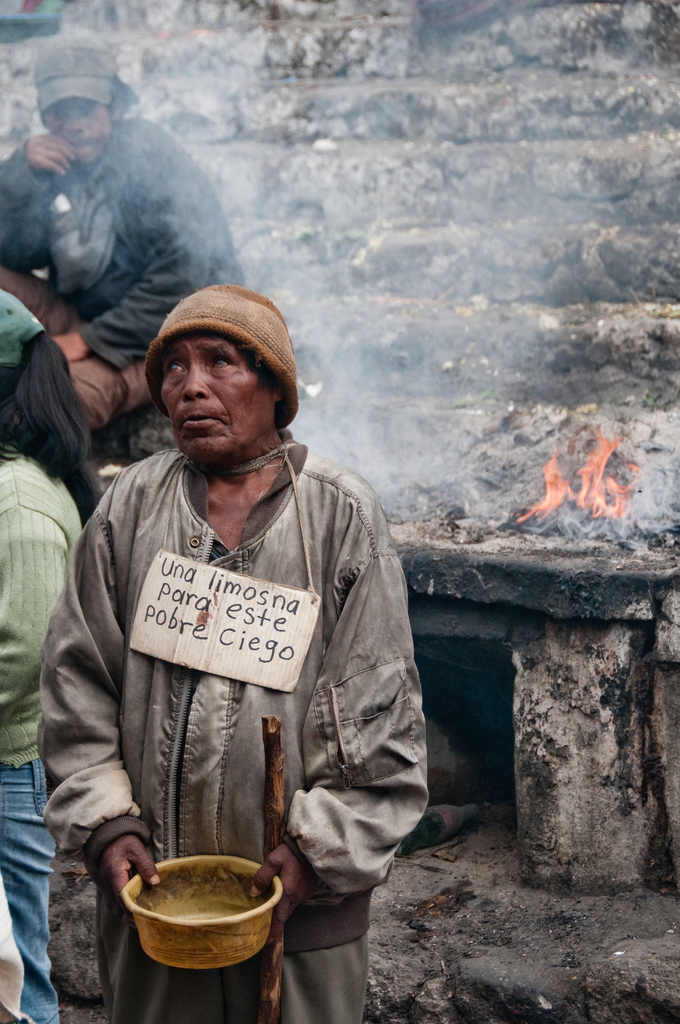Person: (0, 285, 103, 1023)
